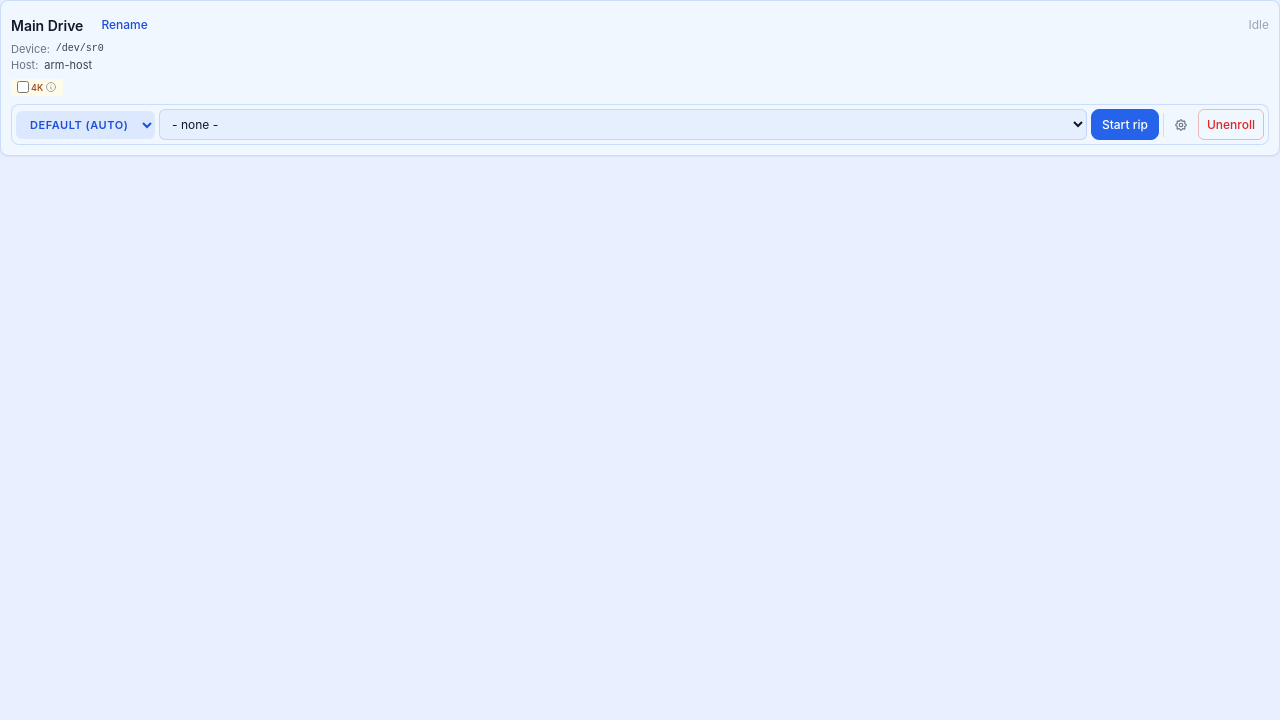
Test case: DriveCard › unenroll › surfaces an unenroll failure inline instead of swallowing it
Click the button with test id "drive-unenroll": x=1231, y=125 [1198, 109, 1264, 140]
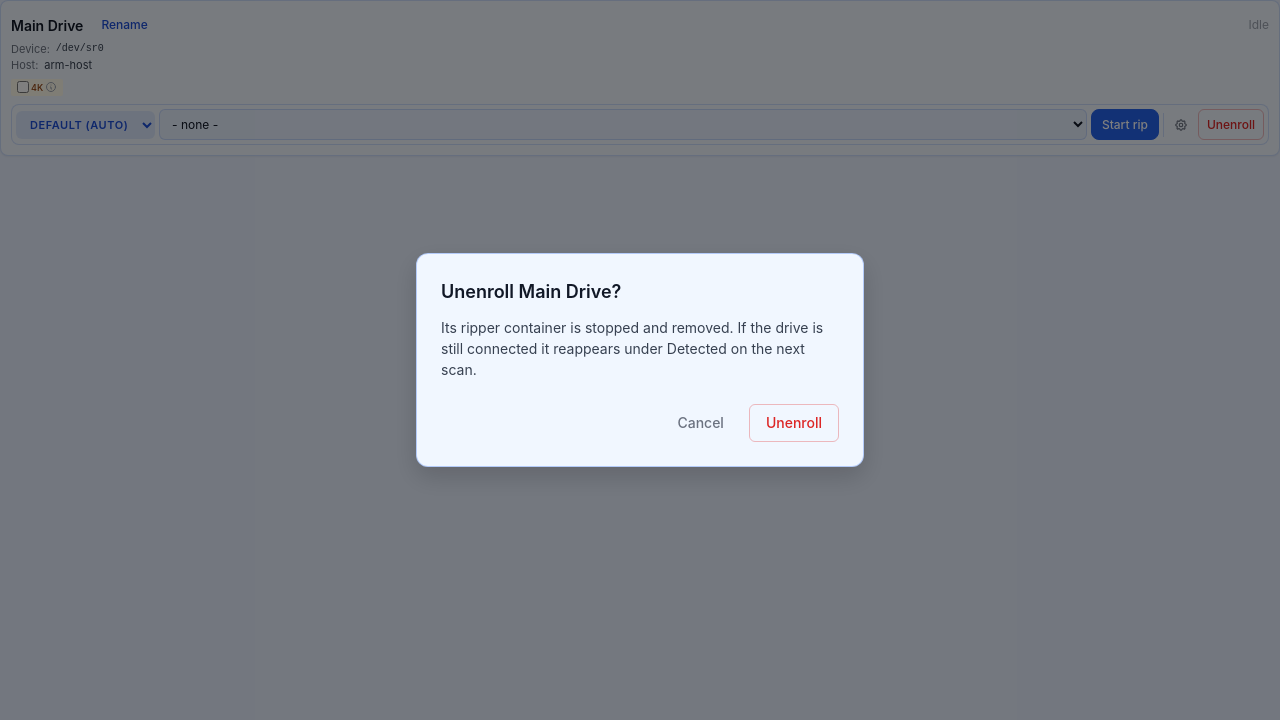
Click the button "Unenroll": x=794, y=423 [749, 404, 839, 442]
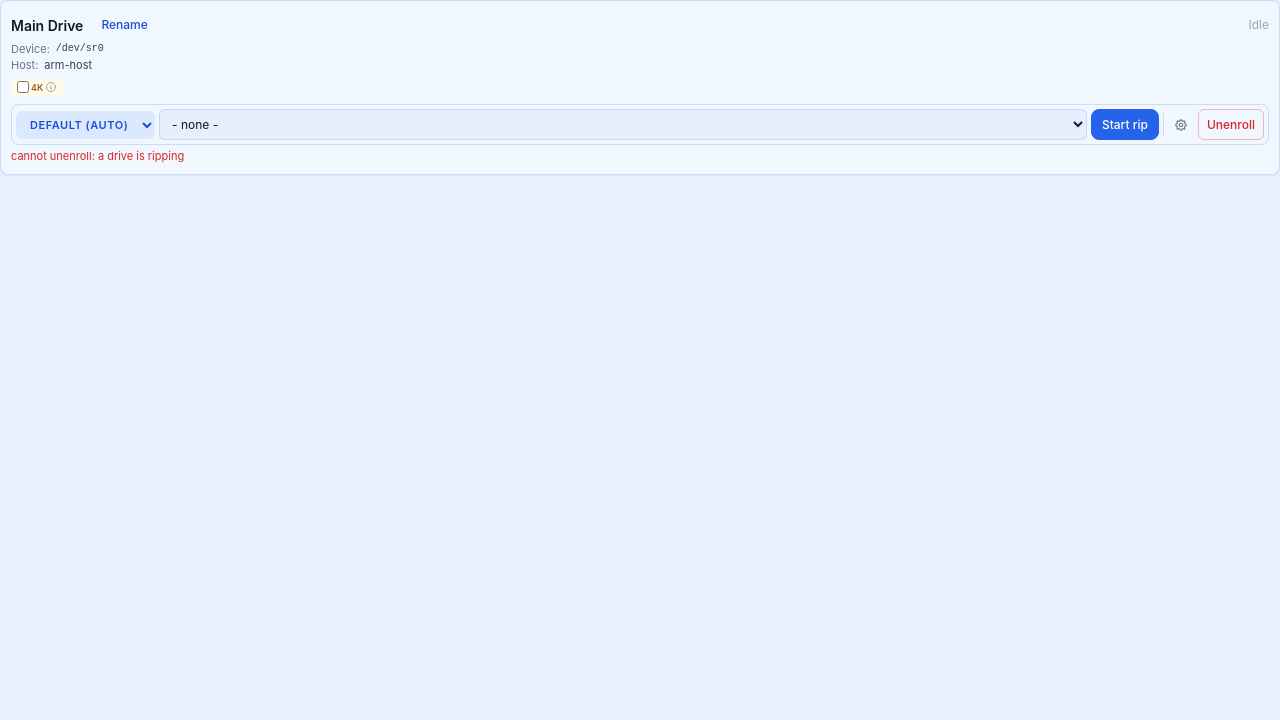
Expected: the button with test id "drive-unenroll" is enabled, [1198, 109, 1264, 140]
Now the text with test id "drive-unenroll-error" reads "cannot unenroll: a drive is ripping", box [11, 149, 184, 163]
